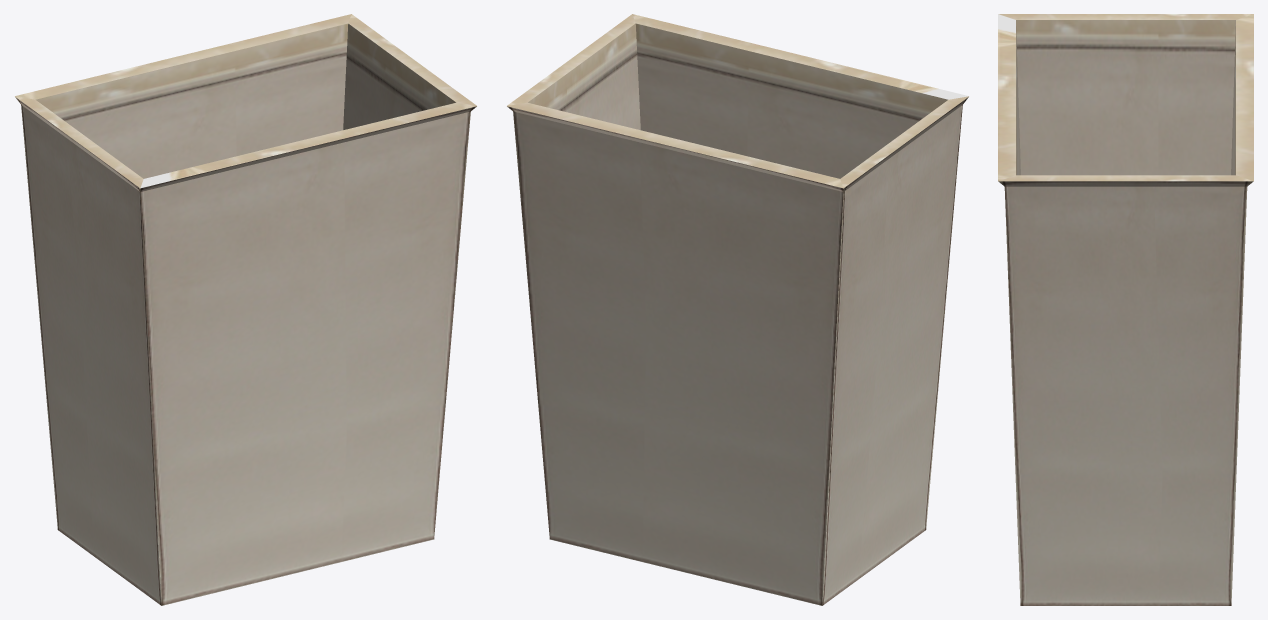
File: Trash Can.fbx
3 views of the same model, side by side, from view 1: azimuth 30°, elevation 25°; view 2: azimuth 150°, elevation 25°; view 3: azimuth 270°, elevation 25° (orthographic).
Parts seen in each view (by area): view 1: Trash_Can; view 2: Trash_Can; view 3: Trash_Can.
Part boxes in pixels (x1,y1,x2,y2): Trash_Can: (15,14,476,605); Trash_Can: (507,14,968,605); Trash_Can: (998,14,1253,605).
Bounding box in the file's own units: 2.03 × 2.5 × 1.32.
